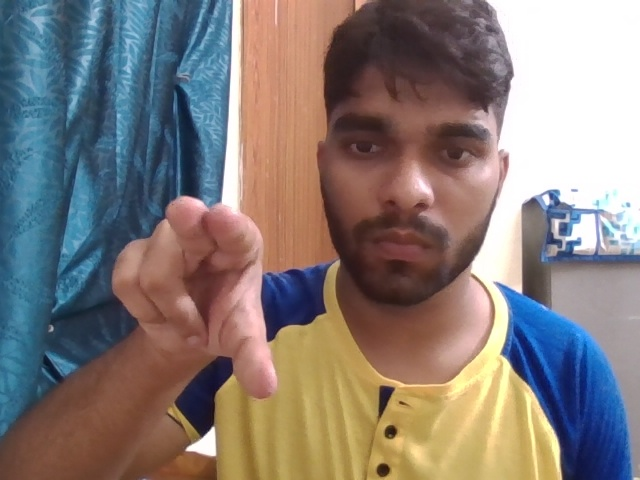No: (106, 186, 296, 418)
